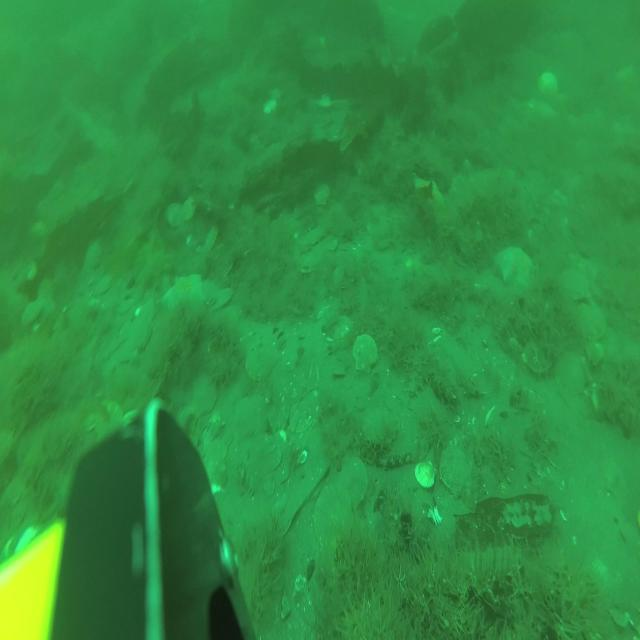holothurian: (405, 358, 432, 398)
scallop: (312, 479, 355, 554), (555, 347, 591, 405), (439, 440, 472, 498), (364, 399, 398, 450), (338, 455, 371, 505), (91, 396, 124, 440), (189, 373, 221, 418), (242, 343, 276, 384), (562, 265, 594, 308), (522, 336, 555, 376), (287, 398, 317, 438), (576, 303, 608, 340), (352, 335, 380, 375), (126, 310, 152, 352), (414, 456, 438, 492), (332, 260, 358, 293), (328, 312, 354, 344), (536, 64, 560, 98), (212, 282, 234, 315), (20, 298, 43, 329), (164, 199, 185, 229), (305, 225, 327, 247), (181, 193, 196, 224), (312, 181, 330, 206), (95, 274, 113, 297), (299, 258, 319, 278), (205, 224, 219, 252)
starfish: (161, 271, 207, 316), (494, 240, 534, 290)
